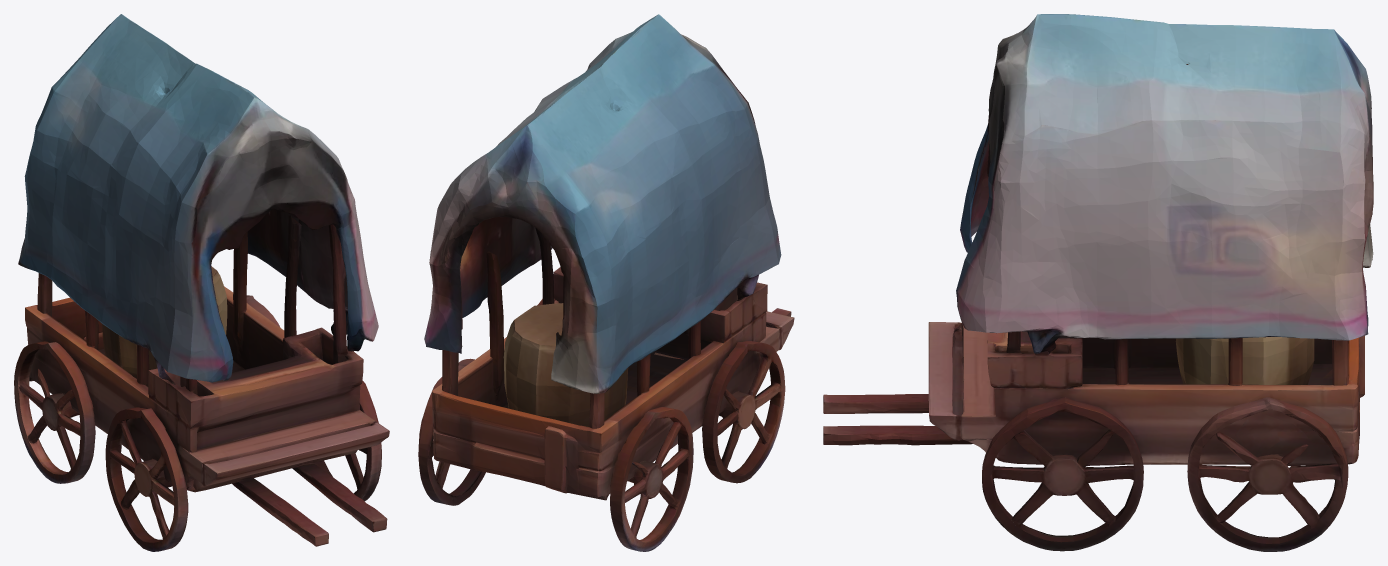
File: partflow_t04.glb
The picture shows the model from 3 angles, left to right: view 1: azimuth 30°, elevation 25°; view 2: azimuth 150°, elevation 25°; view 3: azimuth 270°, elevation 25°; orthographic projection. The views are drawn at different scales.
Parts seen in each view (by area): view 1: geometry_0; view 2: geometry_0; view 3: geometry_0.
Boxes of the visible parts, <box> form: geometry_0: <box>14,14,389,551</box>; geometry_0: <box>418,14,794,551</box>; geometry_0: <box>823,14,1373,551</box>.
Bounding box in the file's own units: 0.983 × 1.93 × 2.
Materials: 1 (1 with a texture image).
